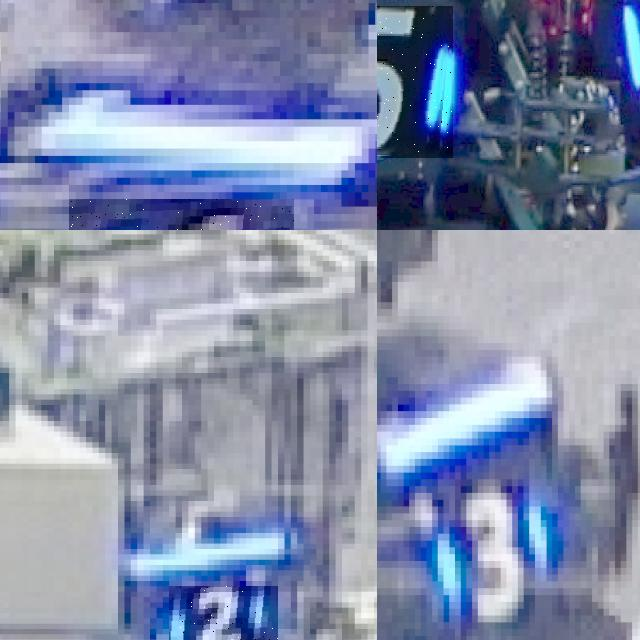B2: (169, 586, 278, 640)
B3: (432, 486, 541, 616)
B5: (377, 6, 453, 158)
